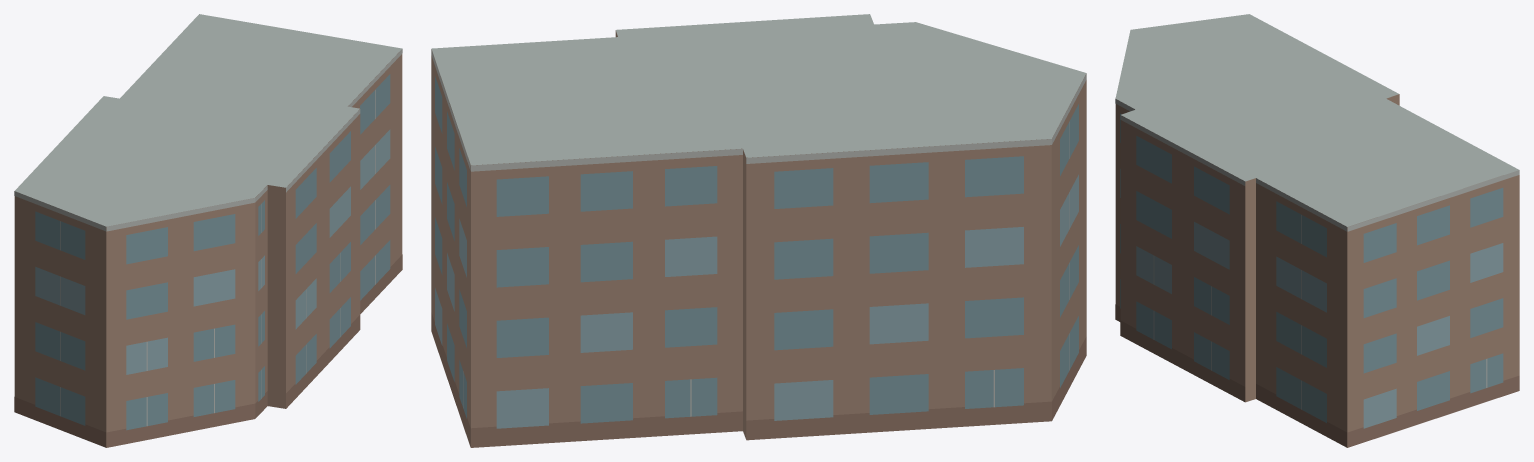
The model's file is survey-upis-32604579.glb.
3 renders of one model, left to right at view 1: azimuth 30°, elevation 25°; view 2: azimuth 150°, elevation 25°; view 3: azimuth 270°, elevation 25°, orthographic. The views are drawn at different scales.
Parts seen in each view (by area): view 1: survey-upis-32604579.tmp; view 2: survey-upis-32604579.tmp; view 3: survey-upis-32604579.tmp.
Part boxes in pixels (box(x1,y1,x2,y2)): survey-upis-32604579.tmp: box(14, 14, 402, 447); survey-upis-32604579.tmp: box(431, 14, 1086, 447); survey-upis-32604579.tmp: box(1115, 14, 1519, 447).
Size of the model in its own units: 22.85 by 11.05 by 18.32.
